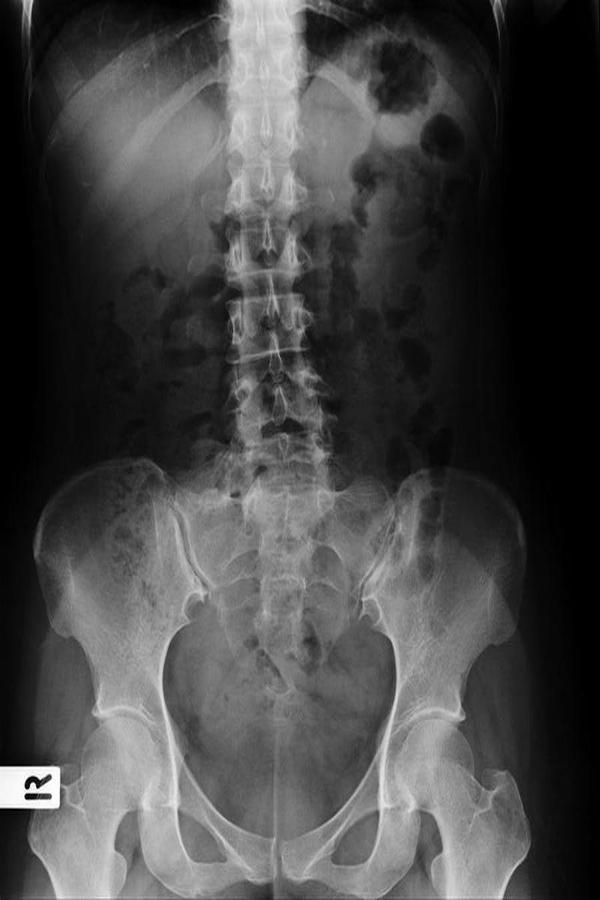lumbar scoliosis: (215, 7, 338, 521)
